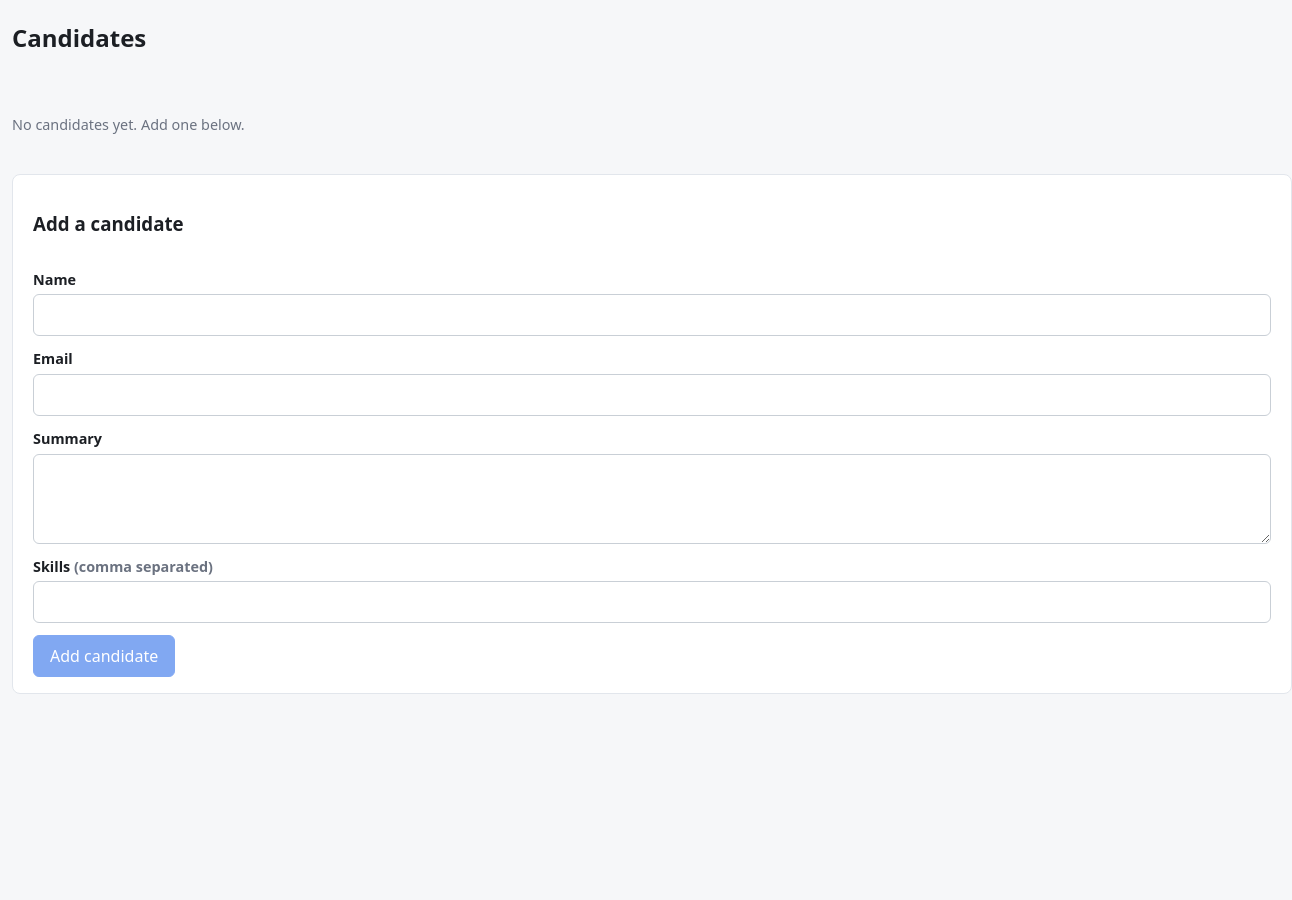
Test case: CandidatesPage › adds a candidate submitted through the form to the list
The width and height of the screenshot is (1292, 900).
Type "Ada Lovelace" into the field labelled "Name" at (652, 315), box [33,294,1271,336]
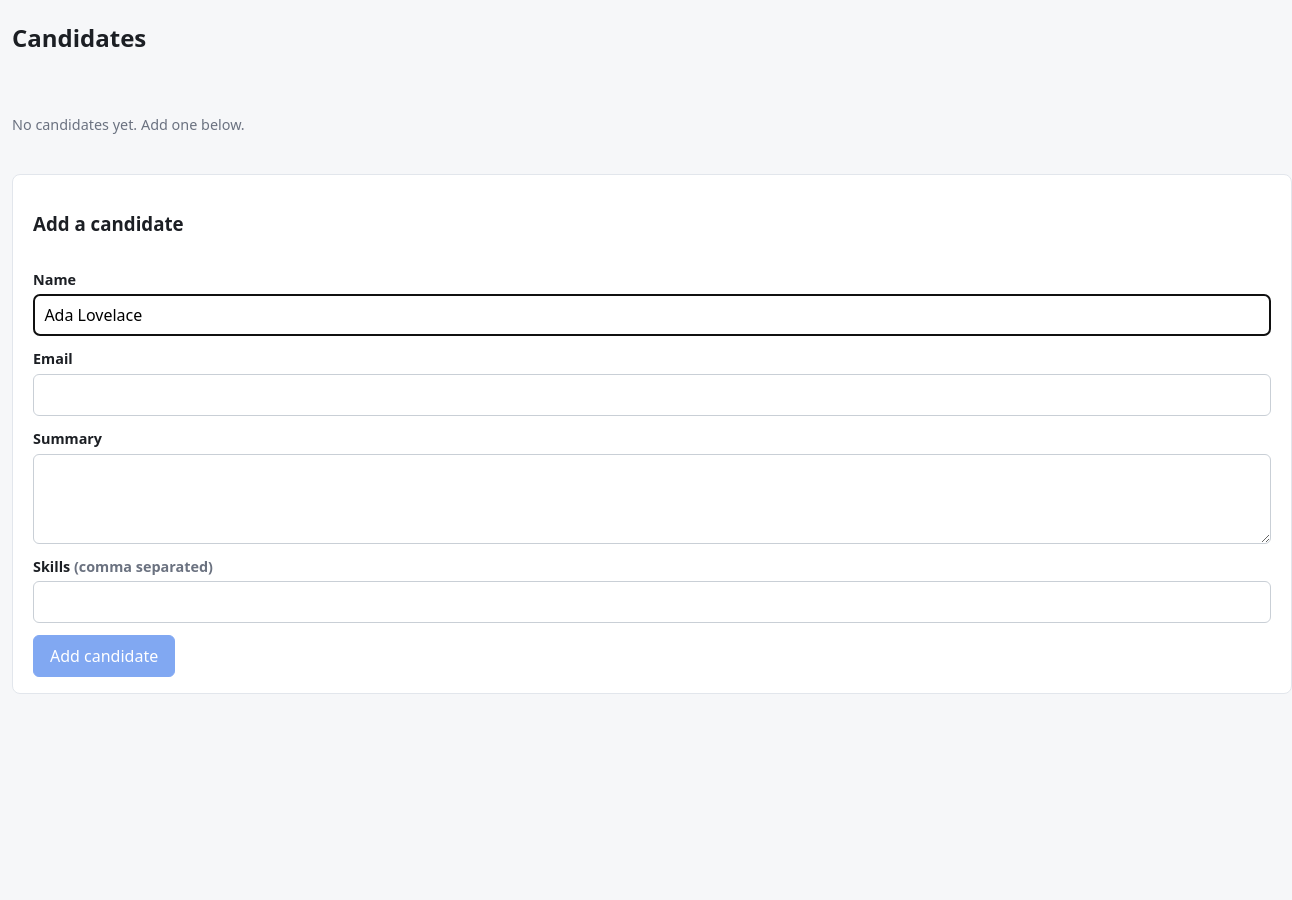
Type "ada@example.com" into the field labelled "Email" at (652, 395), box [33,374,1271,416]
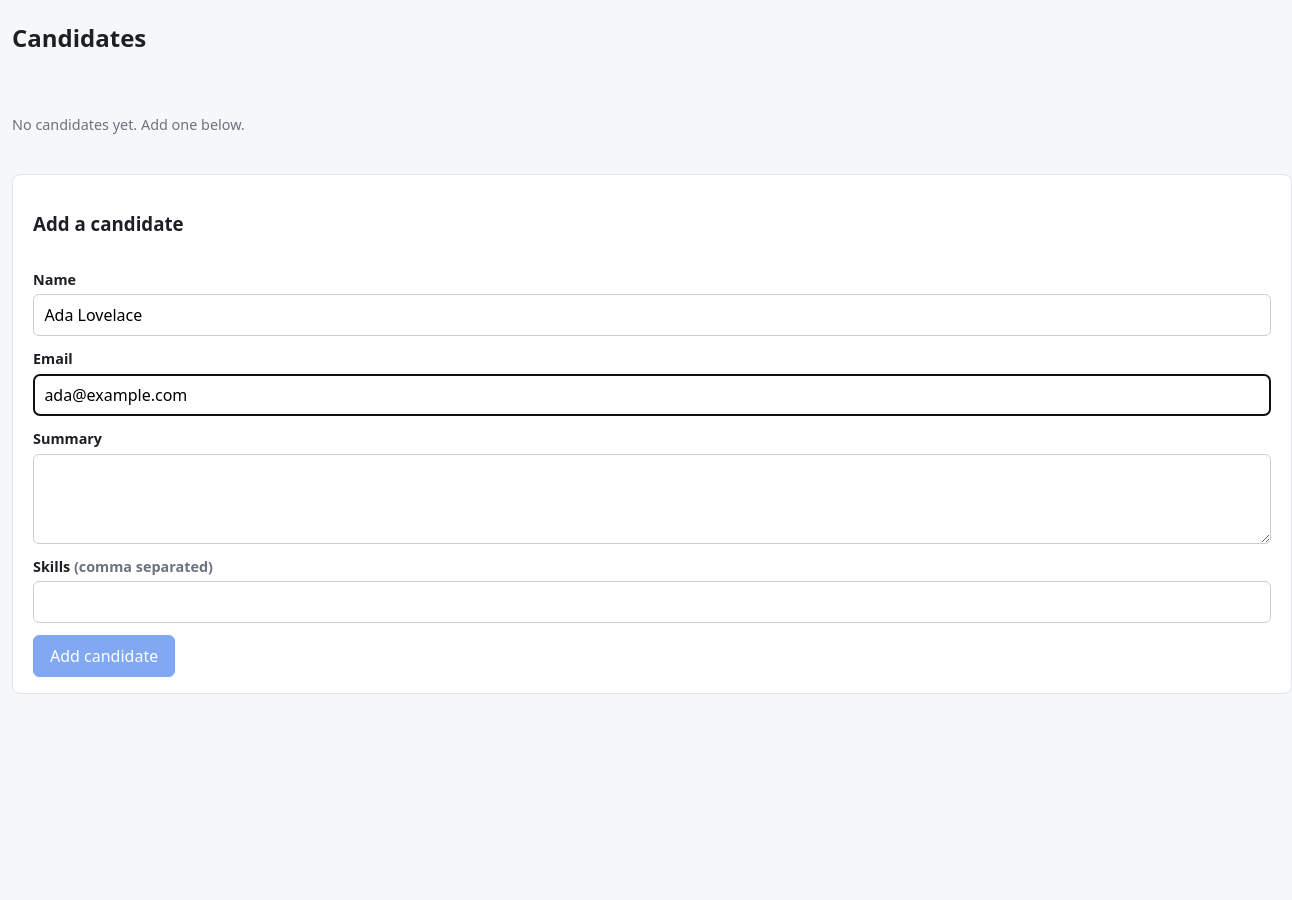
Type "Pioneering analyst." into the text box labelled "Summary" at (652, 498), box [33,454,1271,544]
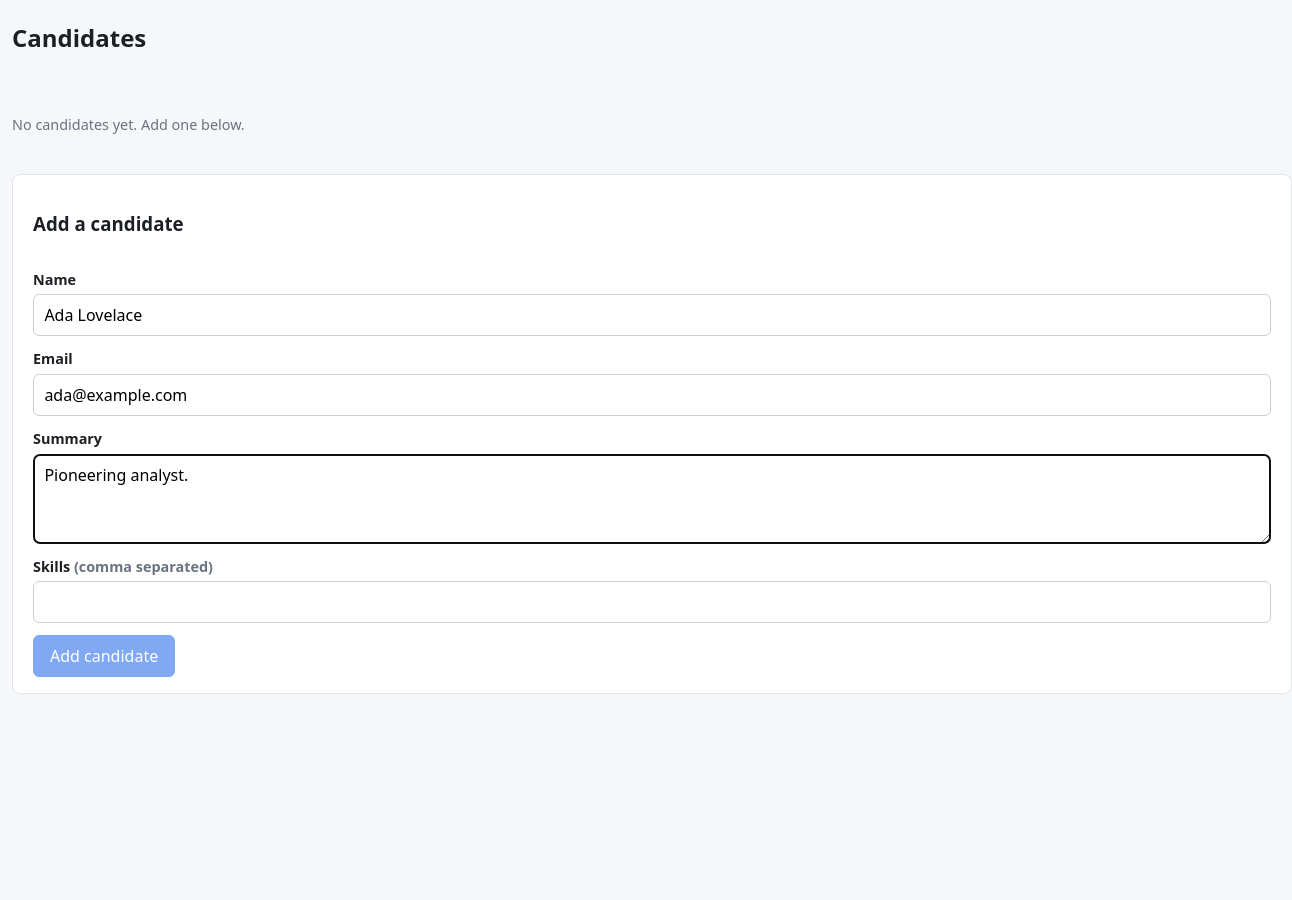
Type "Analysis, Mathematics" into the field labelled "Skills (comma separated)" at (652, 602), box [33,581,1271,623]
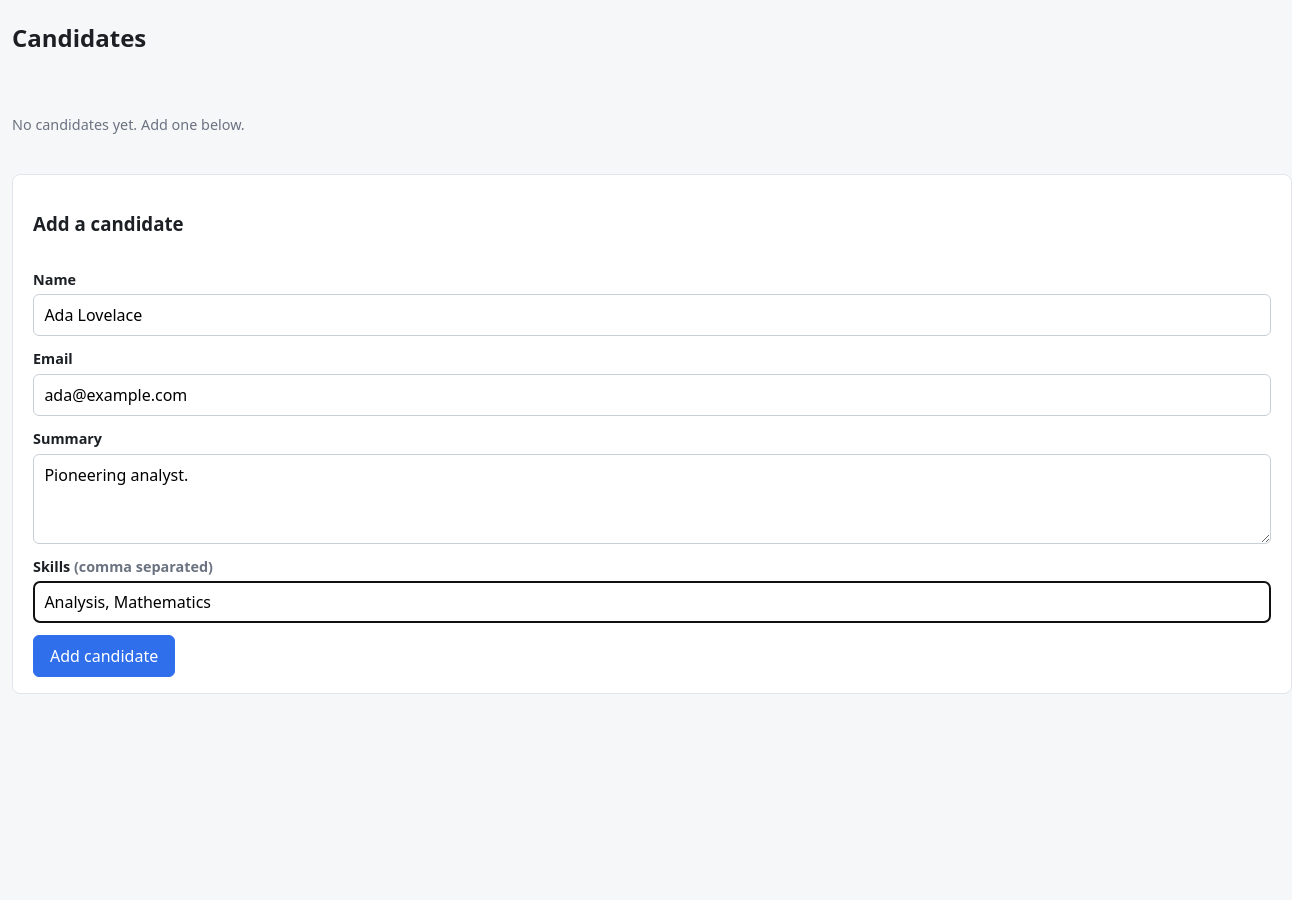
Click the button "Add candidate" at (104, 656), box [33,635,175,677]
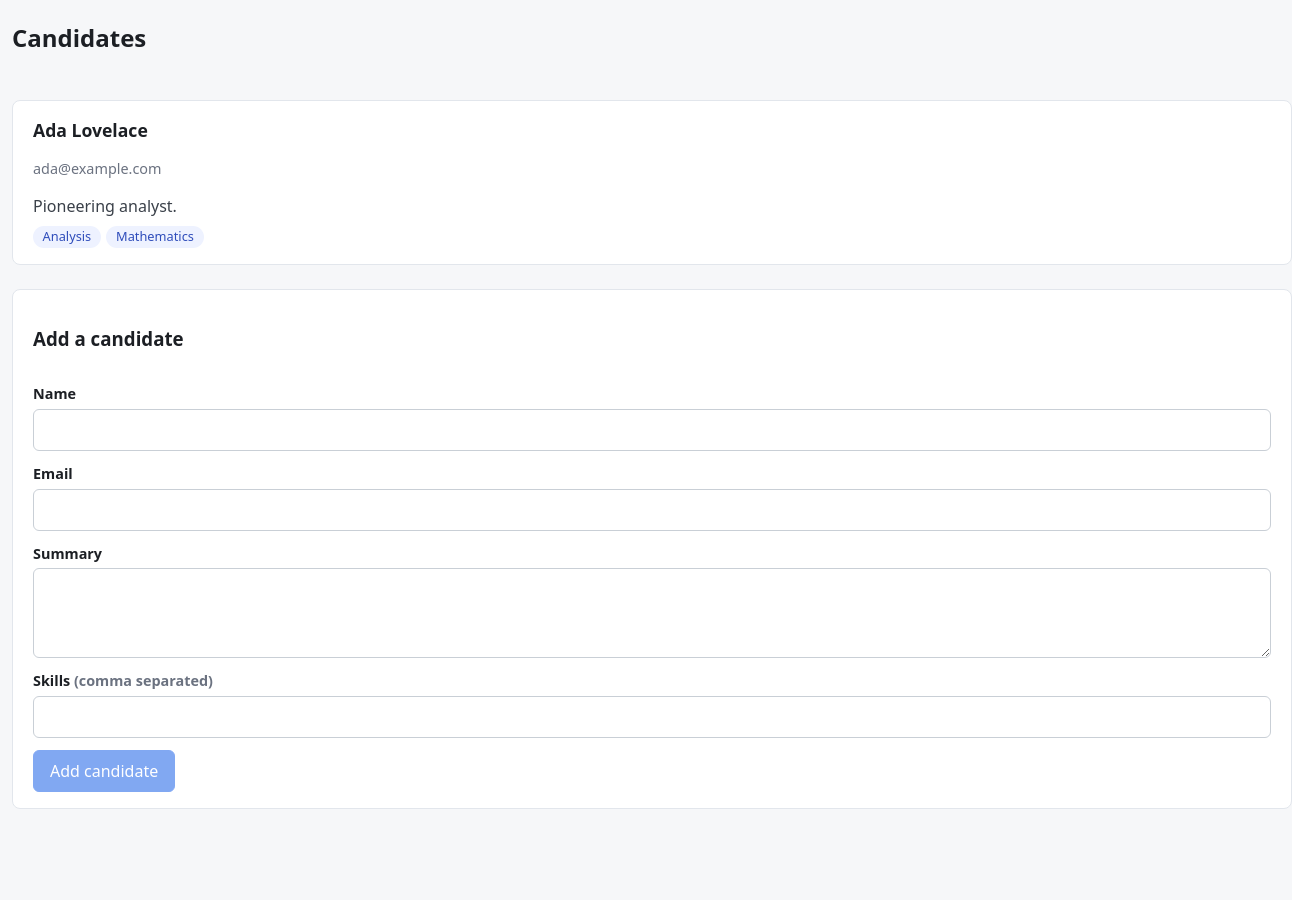
Expected: the heading "Ada Lovelace" is shown, [33,118,148,142]
